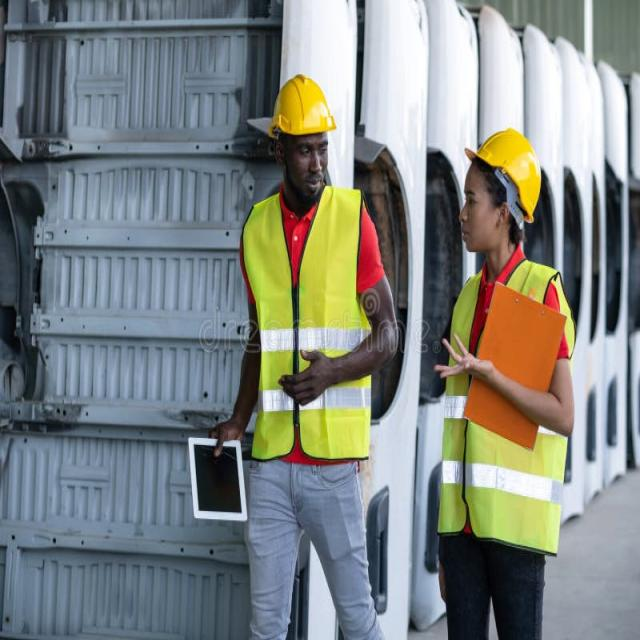helmet: (462, 121, 547, 240), (270, 71, 334, 148)
no-goggles: (462, 177, 515, 230), (275, 132, 335, 166)
vest: (235, 186, 382, 466), (440, 255, 573, 562)
